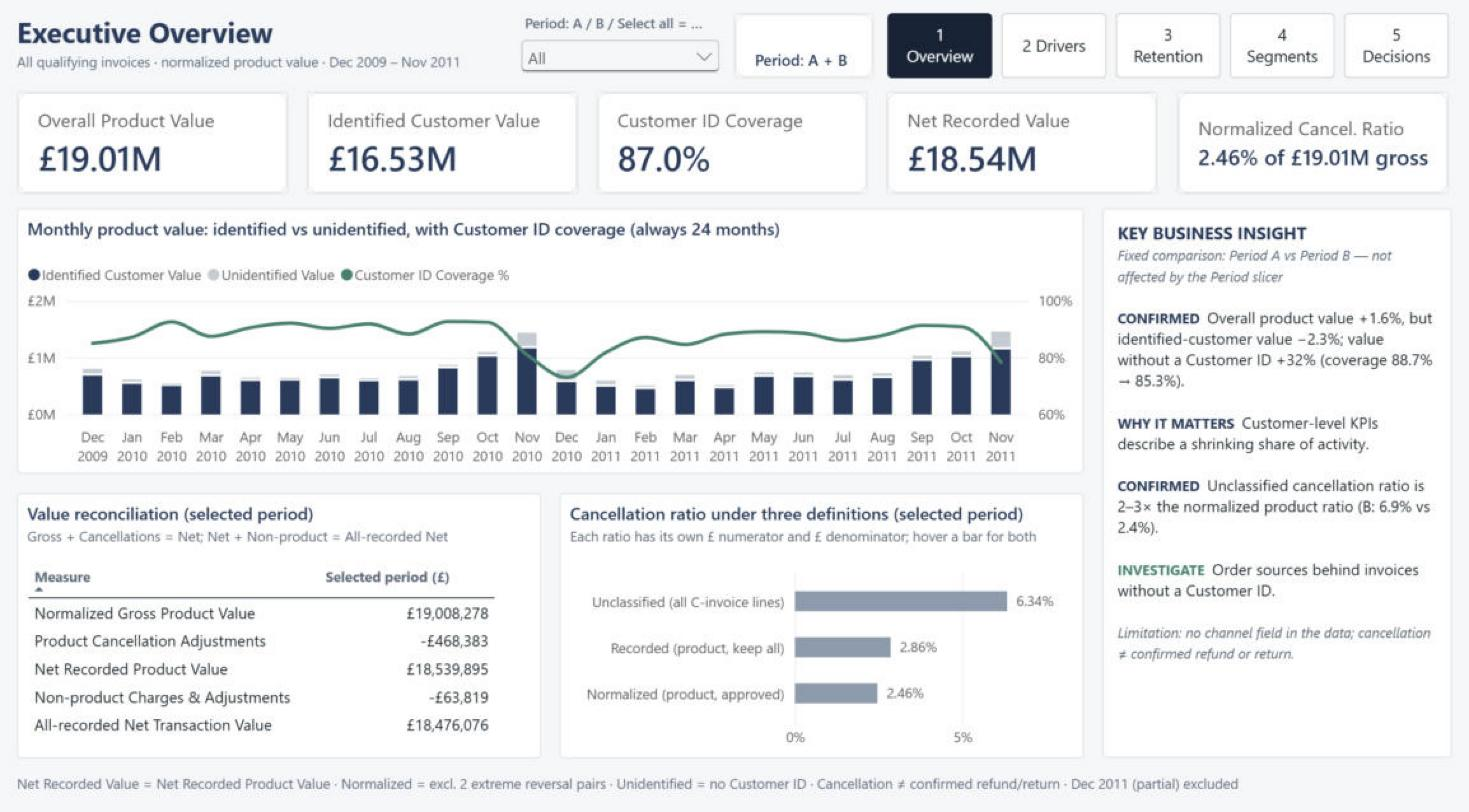

Layout of this report page (visuals, bound fields, positions):
{"tool":"powerbi","page":{"name":"1 Overview","canvas":[1280,720],"ordinal":0},"visuals":[{"type":"textbox","box":[24,24,420,56],"z":10},{"type":"slicer","fields":{"Values":["dim_month.period"]},"box":[452,24,180,56],"z":20},{"type":"cardVisual","fields":{"Data":["_Measures.Selected Period Label"]},"box":[640,24,120,56],"z":21},{"type":"pageNavigator","box":[772,24,484,56],"z":22},{"type":"cardVisual","fields":{"Data":["_Measures.Card Overall Product Value"]},"box":[24,92,233,88],"z":30},{"type":"cardVisual","fields":{"Data":["_Measures.Card Identified Customer Value"]},"box":[273,92,233,88],"z":31},{"type":"cardVisual","fields":{"Data":["_Measures.Customer ID Coverage %"]},"box":[522,92,233,88],"z":32},{"type":"cardVisual","fields":{"Data":["_Measures.Card Net Recorded Product Value"]},"box":[771,92,233,88],"z":33},{"type":"cardVisual","fields":{"Data":["_Measures.Card Normalized Ratio with Base"]},"box":[1020,92,233,88],"z":34},{"type":"lineStackedColumnComboChart","title":"Monthly product value: identified vs unidentified, with Customer ID coverage (always 24 months)","fields":{"Category":["dim_month.month_label"],"Y":["_Measures.Identified Customer Value","_Measures.Unidentified Value"],"Y2":["_Measures.Customer ID Coverage %"]},"box":[24,192,916,228],"z":40},{"type":"tableEx","title":"Value reconciliation (selected period)","fields":{"Values":["value_reconciliation_line.line","_Measures.Reconciliation Value"]},"box":[24,436,450,228],"z":41},{"type":"clusteredBarChart","title":"Cancellation ratio under three definitions (selected period)","fields":{"Category":["ratio_definition.definition"],"Y":["_Measures.Ratio by Definition"]},"box":[490,436,450,228],"z":42},{"type":"textbox","box":[956,192,300,472],"z":50},{"type":"textbox","box":[24,676,1232,20],"z":60}]}

Visuals, with their boxes in screenshot pixels (x1, y1, x2, y2), scaled from the page's 1280x720 canvas onto the 1469x812 screenshot:
textbox: {"left": 28, "top": 27, "right": 510, "bottom": 90}
slicer - dim_month.period: {"left": 519, "top": 27, "right": 725, "bottom": 90}
cardVisual - _Measures.Selected Period Label: {"left": 734, "top": 27, "right": 872, "bottom": 90}
pageNavigator: {"left": 886, "top": 27, "right": 1441, "bottom": 90}
cardVisual - _Measures.Card Overall Product Value: {"left": 28, "top": 104, "right": 295, "bottom": 203}
cardVisual - _Measures.Card Identified Customer Value: {"left": 313, "top": 104, "right": 581, "bottom": 203}
cardVisual - _Measures.Customer ID Coverage %: {"left": 599, "top": 104, "right": 866, "bottom": 203}
cardVisual - _Measures.Card Net Recorded Product Value: {"left": 885, "top": 104, "right": 1152, "bottom": 203}
cardVisual - _Measures.Card Normalized Ratio with Base: {"left": 1171, "top": 104, "right": 1438, "bottom": 203}
"Monthly product value: identified vs unidentified, with Customer ID coverage (always 24 months)" lineStackedColumnComboChart: {"left": 28, "top": 217, "right": 1079, "bottom": 474}
"Value reconciliation (selected period)" tableEx: {"left": 28, "top": 492, "right": 544, "bottom": 749}
"Cancellation ratio under three definitions (selected period)" clusteredBarChart: {"left": 562, "top": 492, "right": 1079, "bottom": 749}
textbox: {"left": 1097, "top": 217, "right": 1441, "bottom": 749}
textbox: {"left": 28, "top": 762, "right": 1441, "bottom": 785}
